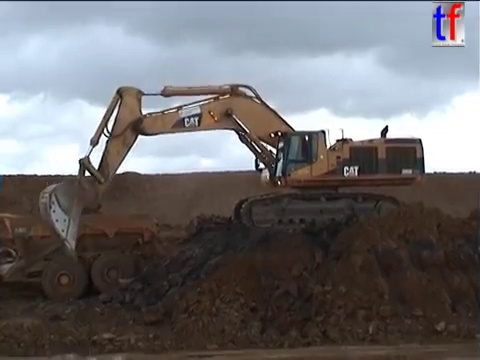excavator: (36, 80, 428, 259)
truck: (1, 209, 158, 302)
